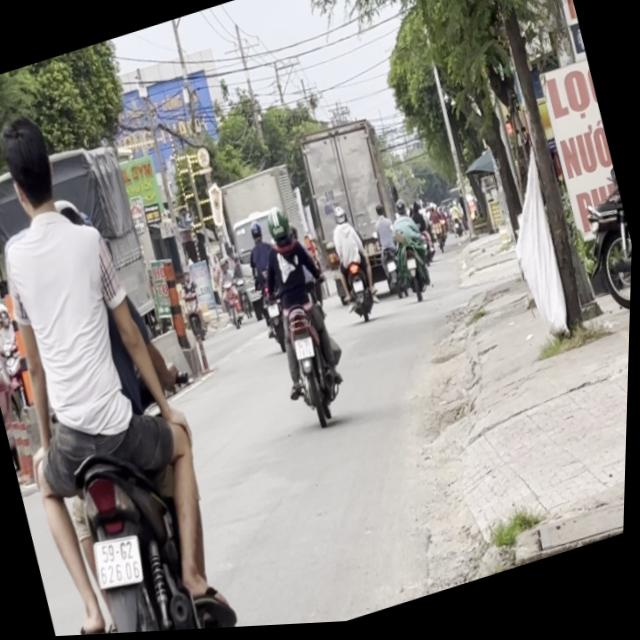helmet: (263, 206, 294, 248)
licenseplate: (0, 84, 269, 640), (240, 198, 365, 439)
motorcyclist: (0, 110, 68, 226)
nohelmet: (94, 531, 150, 594), (294, 337, 318, 364)
